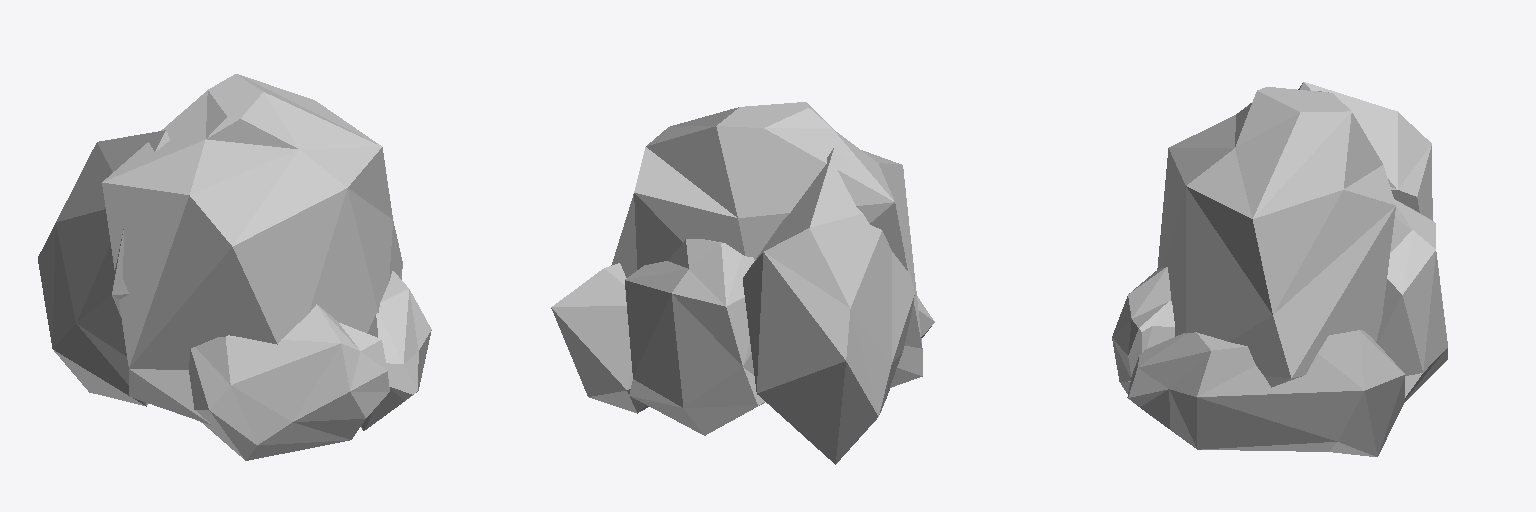
File: Wall.obj
3 views of the same model, side by side, from view 1: azimuth 30°, elevation 25°; view 2: azimuth 150°, elevation 25°; view 3: azimuth 270°, elevation 25° (orthographic).
Parts seen in each view (by area): view 1: Wall; view 2: Wall; view 3: Wall.
Boxes of the visible parts, x1,y1,x2,y2 form: Wall: [38, 74, 431, 460]; Wall: [551, 102, 934, 464]; Wall: [1112, 82, 1447, 456].
Size of the model in its own units: 89.77 by 83.17 by 83.23.